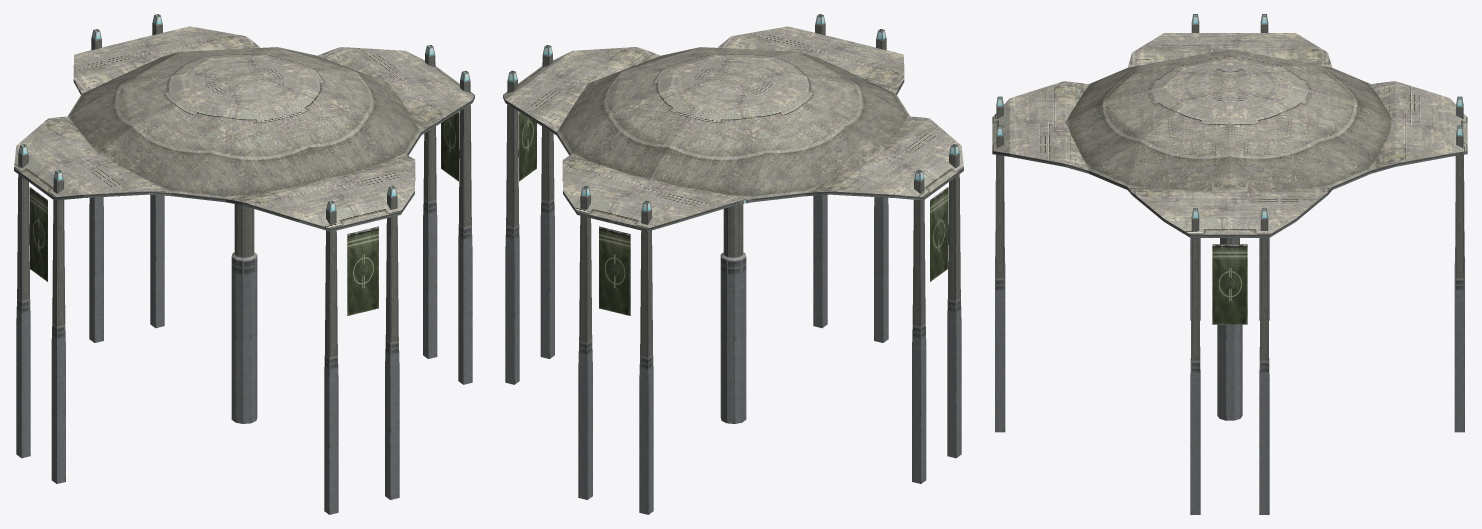
Rendered from eqp_camping_pavilion_s2_l1.fbx.
The picture shows the model from 3 angles, left to right: view 1: azimuth 30°, elevation 25°; view 2: azimuth 150°, elevation 25°; view 3: azimuth 270°, elevation 25°; orthographic projection. The views are drawn at different scales.
Visible parts, largest first — view 1: mesh_node; view 2: mesh_node; view 3: mesh_node.
Boxes of the visible parts, x1,y1,x2,y2 form: mesh_node: (14, 14, 474, 514); mesh_node: (503, 14, 963, 514); mesh_node: (992, 14, 1467, 514).
Size of the model in its own units: 19.5 by 15.12 by 19.5.
